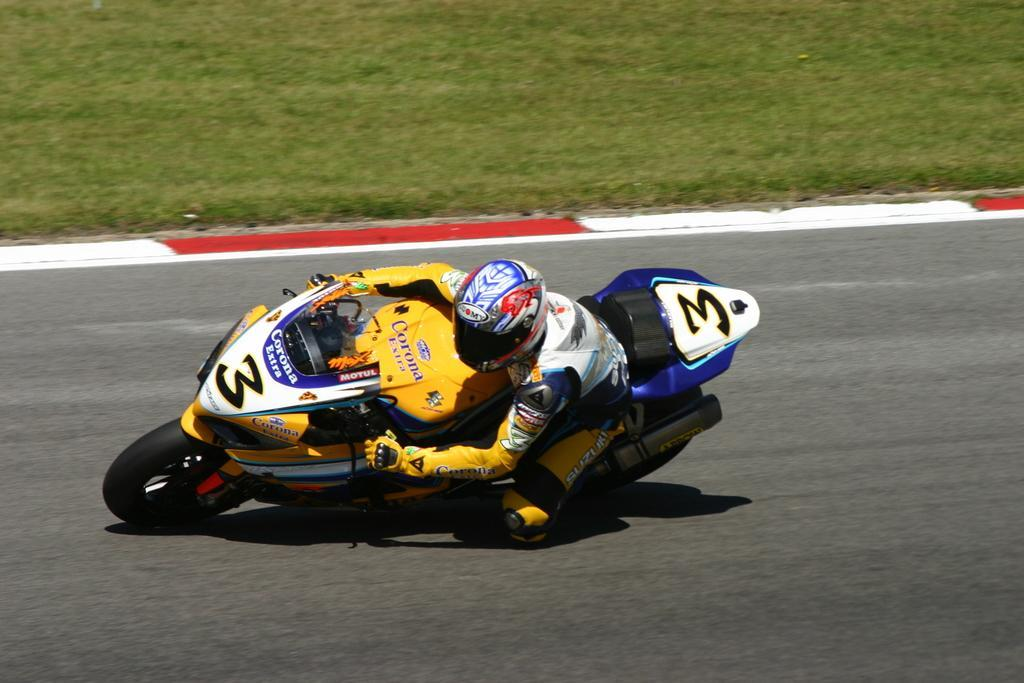helmet: (451, 256, 549, 374)
